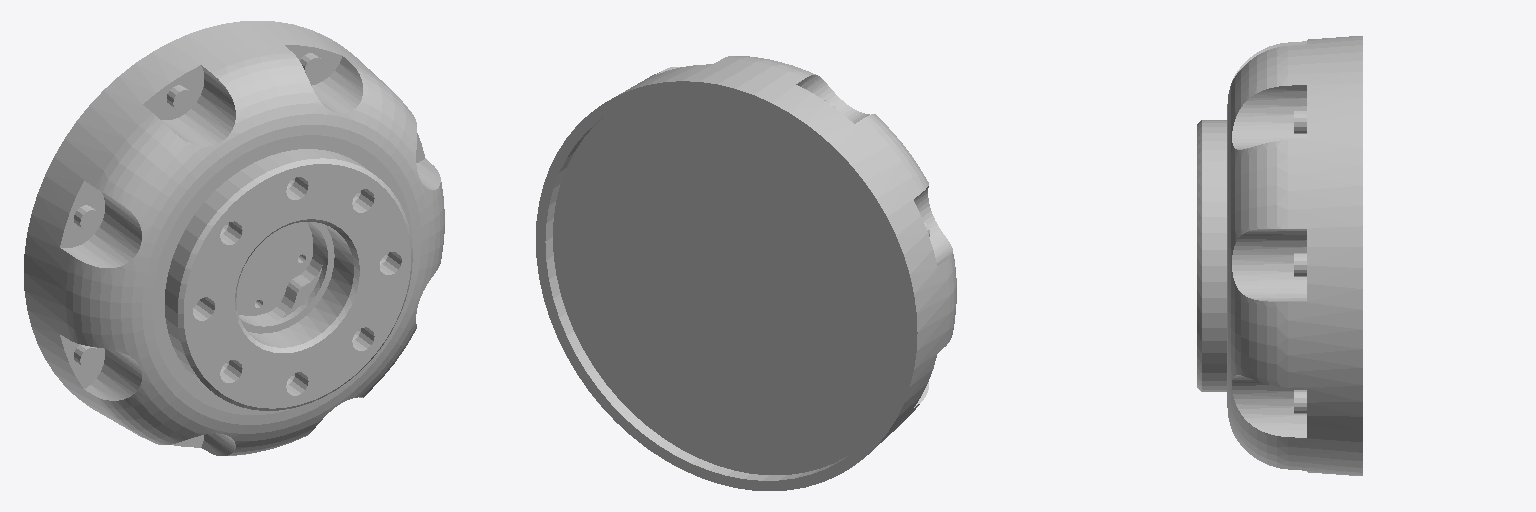
The picture shows the model from 3 angles: view 1: azimuth 30°, elevation 25°; view 2: azimuth 150°, elevation 25°; view 3: azimuth 270°, elevation 25°; orthographic projection.
Parts seen in each view (by area): view 1: link_7; view 2: link_7; view 3: link_7.
Part boxes in pixels (bbox=[...]): link_7: bbox=[24, 21, 444, 455]; link_7: bbox=[536, 56, 956, 490]; link_7: bbox=[1197, 36, 1362, 475].
Size of the model in its own units: 0.1023 by 0.1021 by 0.0384.